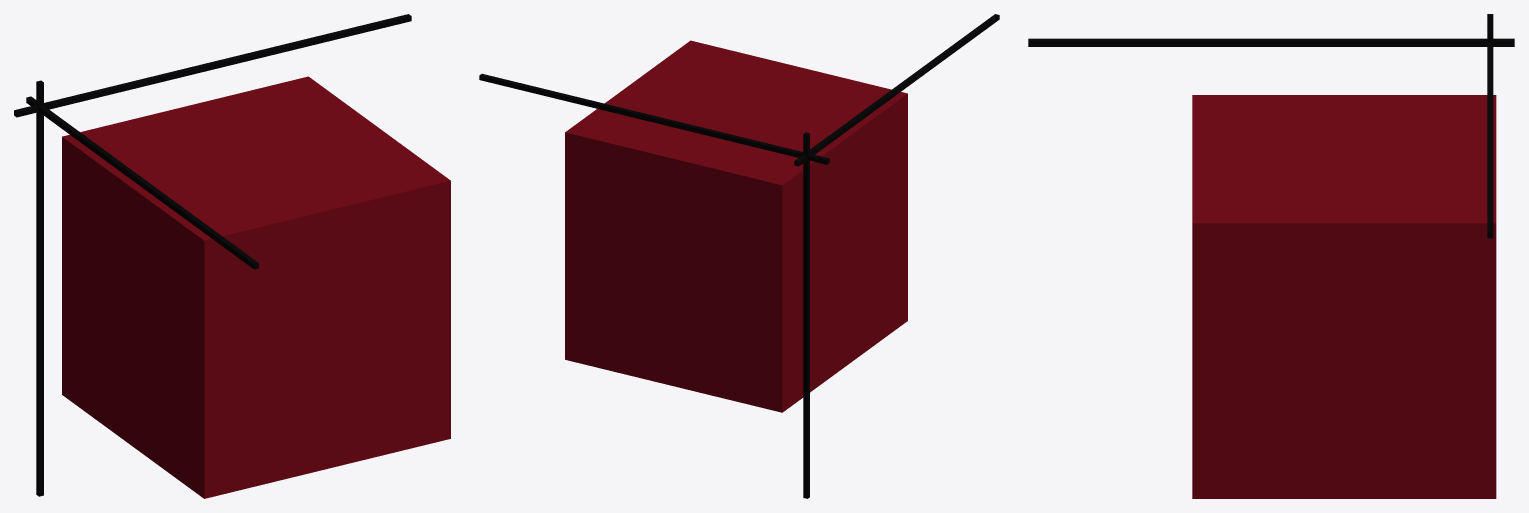
Rendered from cubo.obj.
3 renders of one model, left to right at view 1: azimuth 30°, elevation 25°; view 2: azimuth 150°, elevation 25°; view 3: azimuth 270°, elevation 25°, orthographic. The views are drawn at different scales.
Visible parts, largest first — view 1: Object.1, Object.4, Object.2, Object.3; view 2: Object.1, Object.4, Object.2, Object.3; view 3: Object.1, Object.3, Object.4.
Part boxes in pixels (x1,y1,x2,y2): Object.1: (62,76,450,498); Object.4: (14,14,411,117); Object.2: (36,80,43,496); Object.3: (26,96,258,269); Object.1: (565,40,907,412); Object.4: (479,73,829,164); Object.2: (803,132,809,498); Object.3: (794,14,999,166); Object.1: (1192,95,1496,498); Object.3: (1028,38,1514,46); Object.4: (1487,41,1493,238).
Size of the model in its own units: 40 by 40 by 40.
